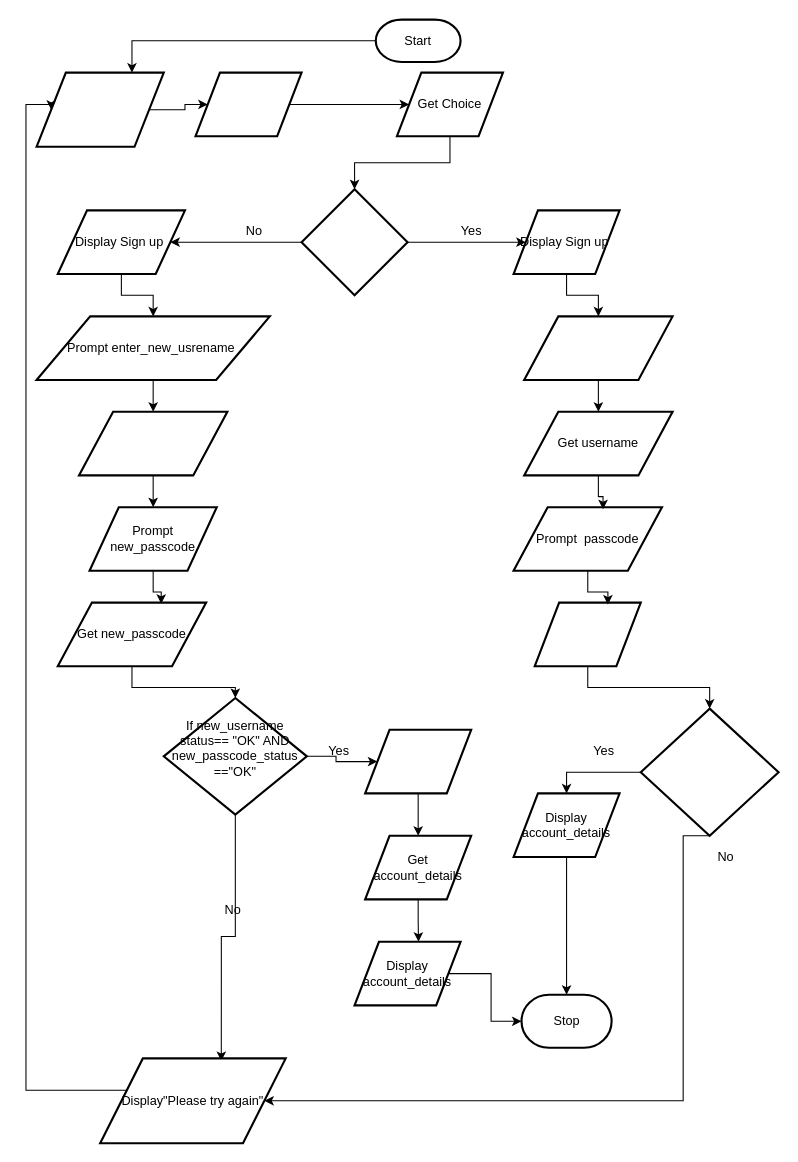
The diagram is 798 pixels wide and 1162 high, and some of its shapes have lost their labels. Here are the shapes that lost their labels. From the top down, the centre of each, then its label:
(99,109): Display "Do you own Account?"
(248,104): Prompt Choice
(354,242): Choice
(598,348): Prompt username
(152,443): Get new_username
(587,634): Get passcode
(418,761): Prompt account_details
(709,771): If username_status=="OK" AND passcode_status =="OK"
